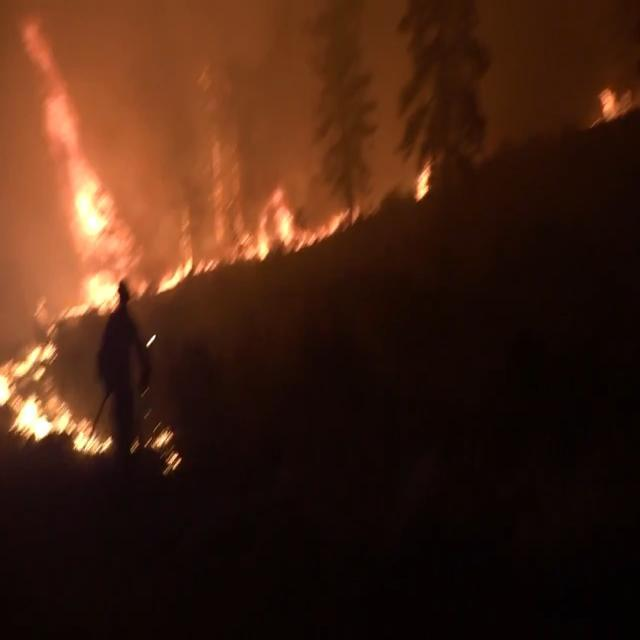Fire: (24, 8, 352, 293), (2, 323, 181, 482), (404, 132, 432, 202), (592, 81, 622, 125)
